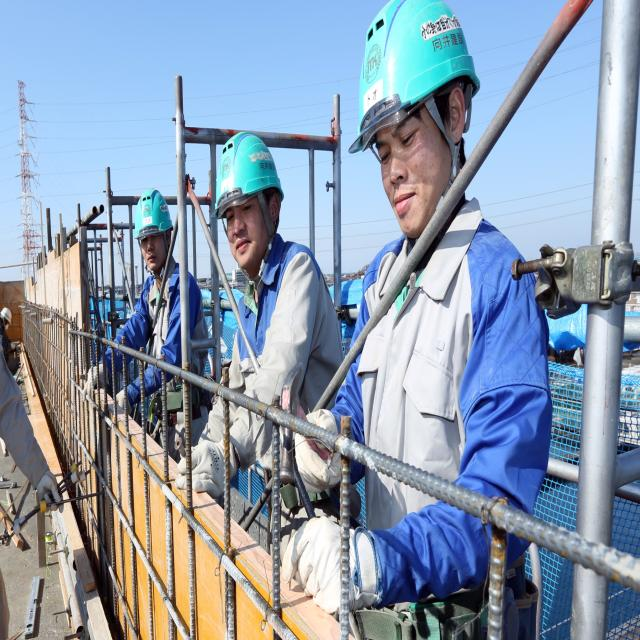Gloves: (278, 406, 388, 624), (177, 418, 239, 508), (81, 359, 132, 429)
Hard Hat: (355, 2, 487, 142), (215, 127, 292, 219), (132, 189, 175, 242)
